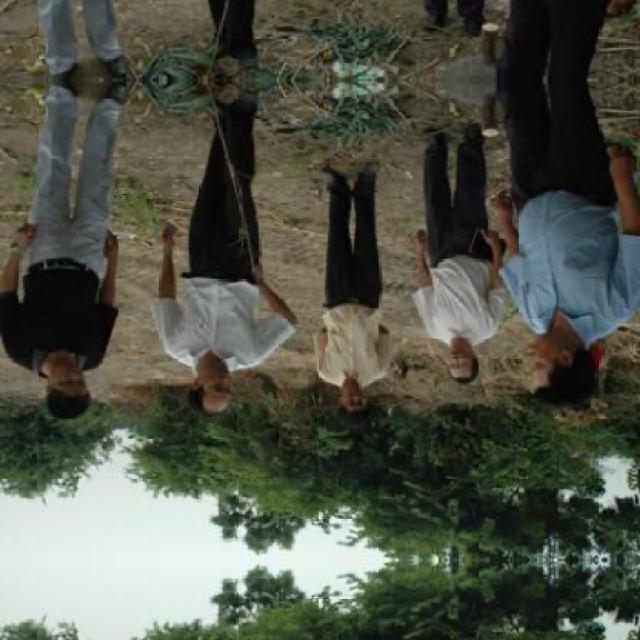sin casco: (513, 329, 607, 401), (178, 338, 256, 424), (29, 342, 97, 432), (314, 375, 394, 435), (421, 333, 491, 399)
